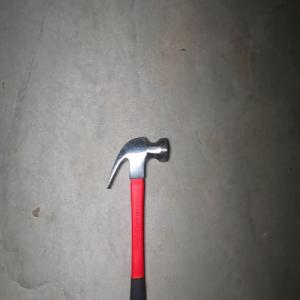Hammer: (105, 135, 169, 300)
